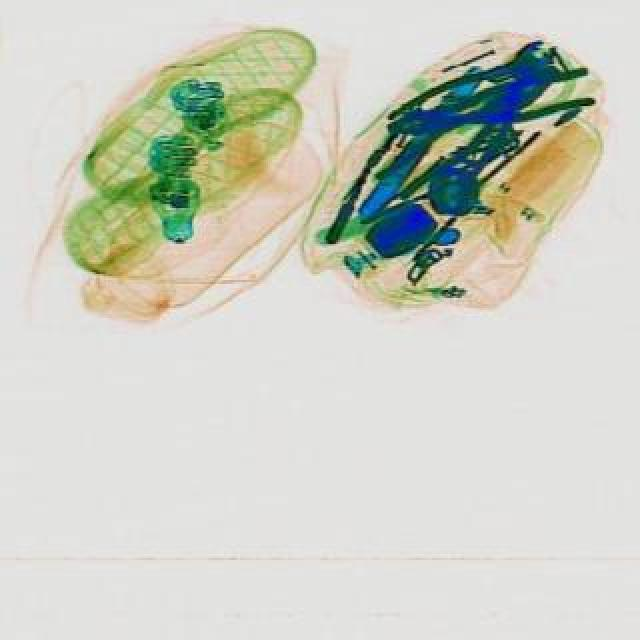wrench: (386, 12, 592, 196), (374, 54, 576, 212), (386, 64, 602, 152)
